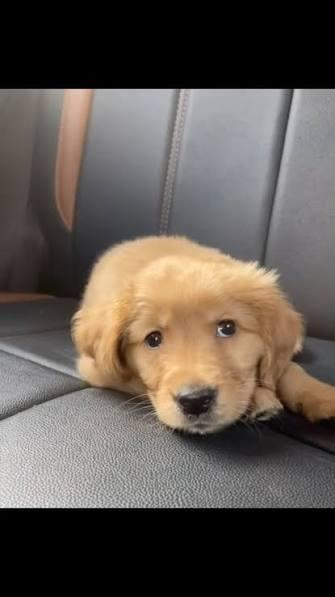puppy-dog: (71, 235, 335, 438)
